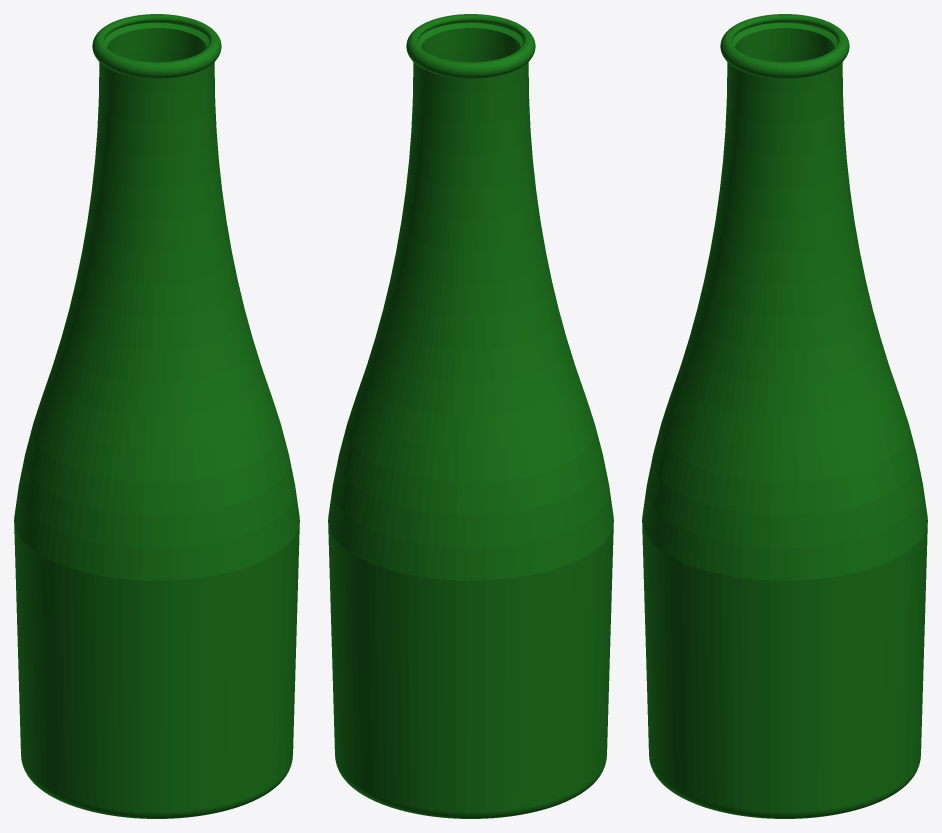
The picture shows the model from 3 angles, left to right: view 1: azimuth 30°, elevation 25°; view 2: azimuth 150°, elevation 25°; view 3: azimuth 270°, elevation 25°; orthographic projection.
Parts seen in each view (by area): view 1: mesh1.001_mesh1-geometry; view 2: mesh1.001_mesh1-geometry; view 3: mesh1.001_mesh1-geometry.
Boxes of the visible parts, x1,y1,x2,y2 form: mesh1.001_mesh1-geometry: [14, 14, 299, 818]; mesh1.001_mesh1-geometry: [328, 14, 613, 818]; mesh1.001_mesh1-geometry: [642, 14, 927, 818].
Bounding box in the file's own units: 0.3185 × 0.8927 × 0.3187.
